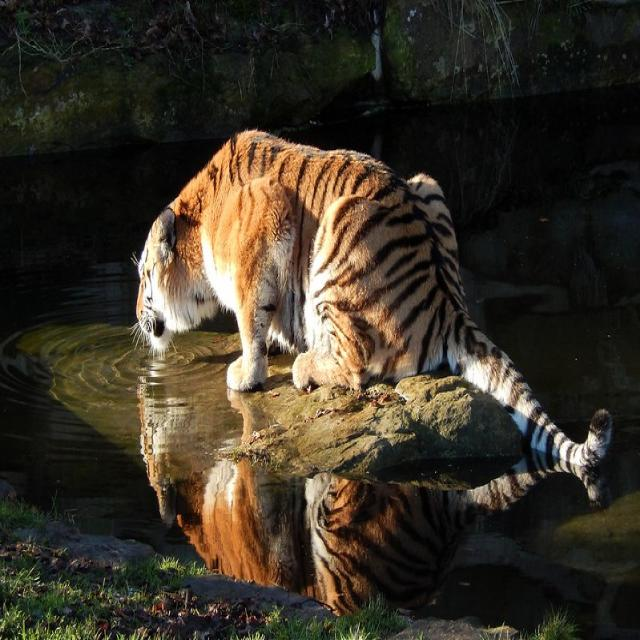Tiger: (130, 128, 610, 462)
